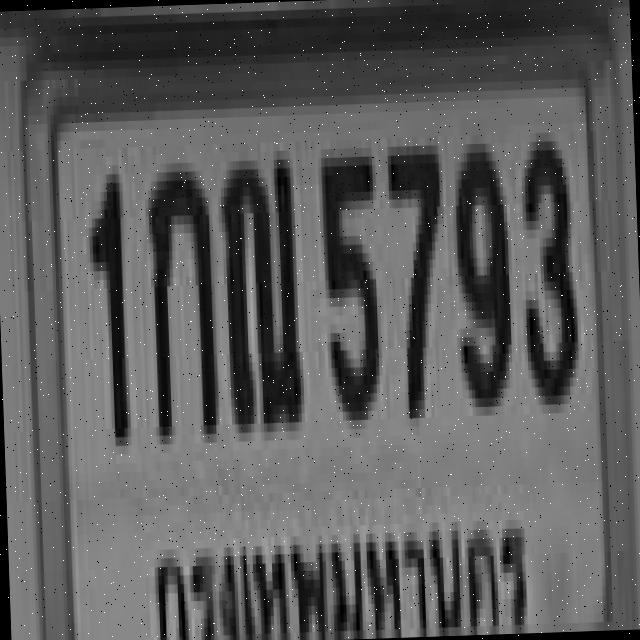1: (83, 165, 127, 438)
10GorGai: (143, 162, 216, 436)
28NorNen: (220, 150, 302, 424)
3: (516, 132, 576, 396)
5: (317, 147, 377, 412)
7: (384, 136, 444, 410)
9: (450, 134, 510, 399)
Bangkok: (137, 506, 548, 640)
